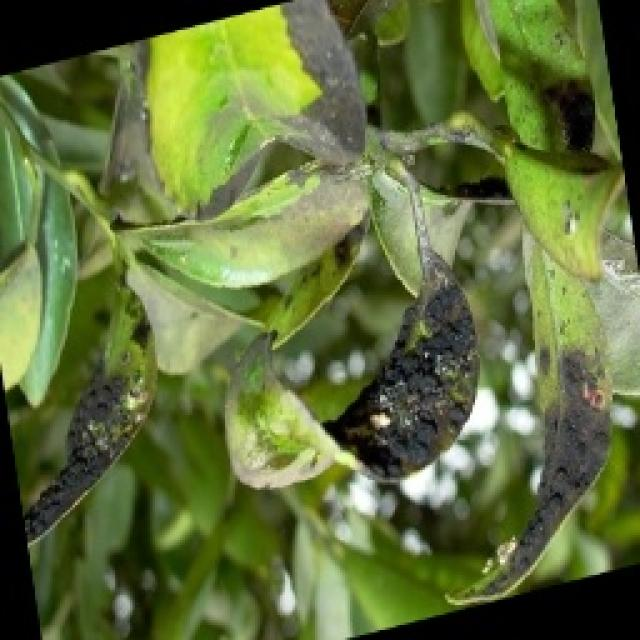Sooty Mold: (150, 0, 480, 482)
